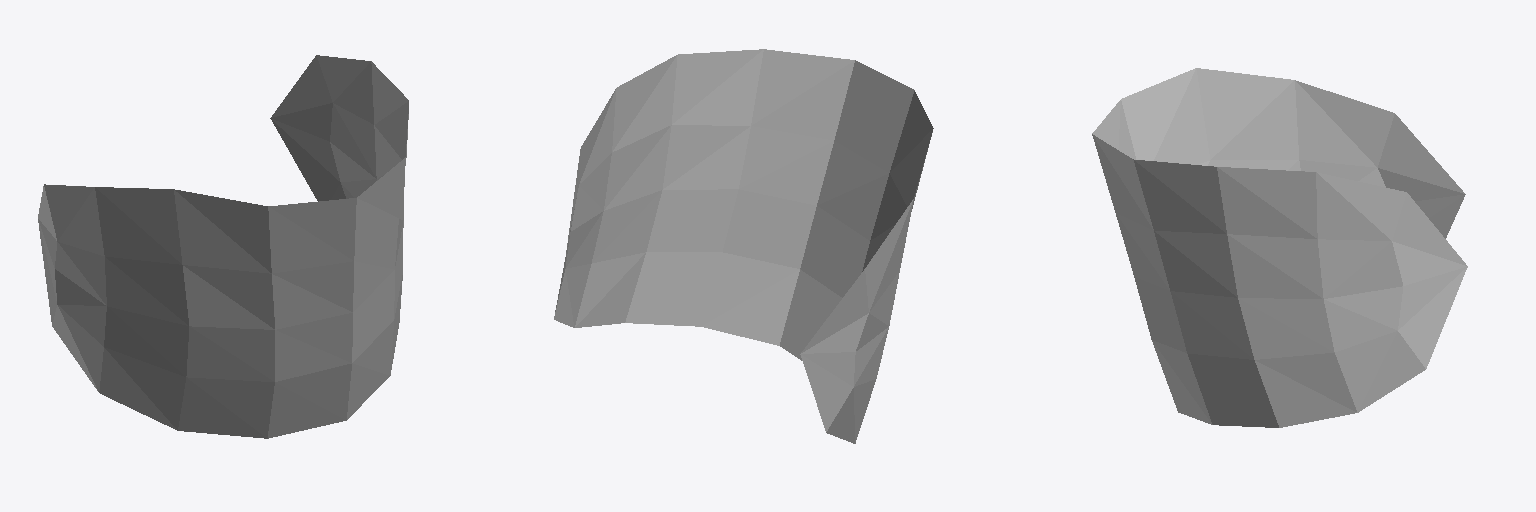
The model's file is genou_gauche.obj.
3 renders of one model, left to right at view 1: azimuth 30°, elevation 25°; view 2: azimuth 150°, elevation 25°; view 3: azimuth 270°, elevation 25°, orthographic.
Visible parts, largest first — view 1: Soi_SimpleArmor.003_Plane.003; view 2: Soi_SimpleArmor.003_Plane.003; view 3: Soi_SimpleArmor.003_Plane.003.
Part boxes in pixels (left/top/right/bottom): Soi_SimpleArmor.003_Plane.003: left=38, top=55, right=408, bottom=438; Soi_SimpleArmor.003_Plane.003: left=554, top=49, right=933, bottom=443; Soi_SimpleArmor.003_Plane.003: left=1092, top=68, right=1467, bottom=427.
Size of the model in its own units: 0.1304 by 0.1201 by 0.1374.